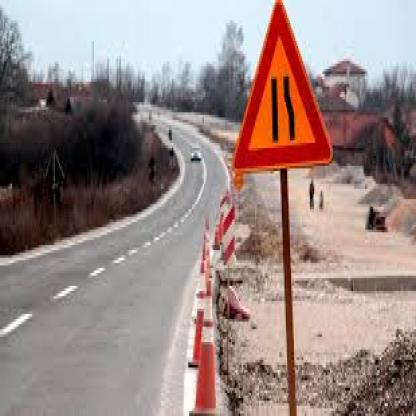car: (190, 145, 202, 167)
